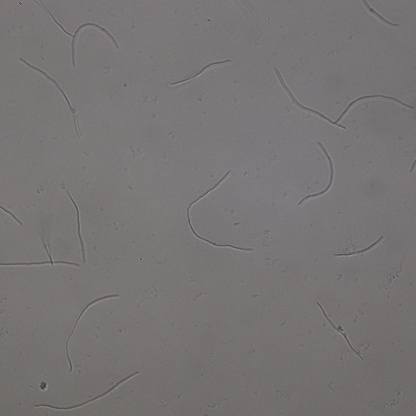Sensitive: (185, 168, 252, 253), (37, 1, 121, 66), (20, 59, 81, 136), (64, 292, 119, 376), (34, 370, 142, 412), (274, 67, 345, 129), (317, 305, 363, 360), (296, 141, 335, 205), (336, 92, 416, 122), (1, 239, 80, 269), (64, 185, 86, 261), (171, 59, 230, 85), (334, 234, 384, 260), (360, 1, 400, 27)
